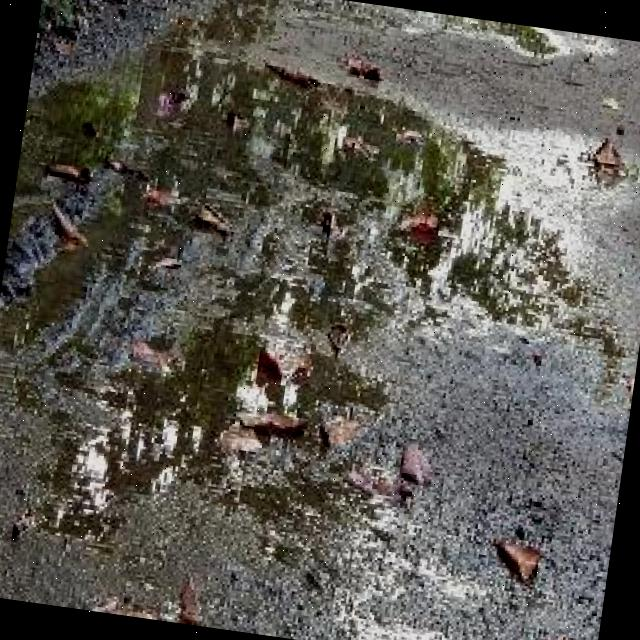stagnation: (0, 0, 633, 612), (412, 14, 582, 85)
